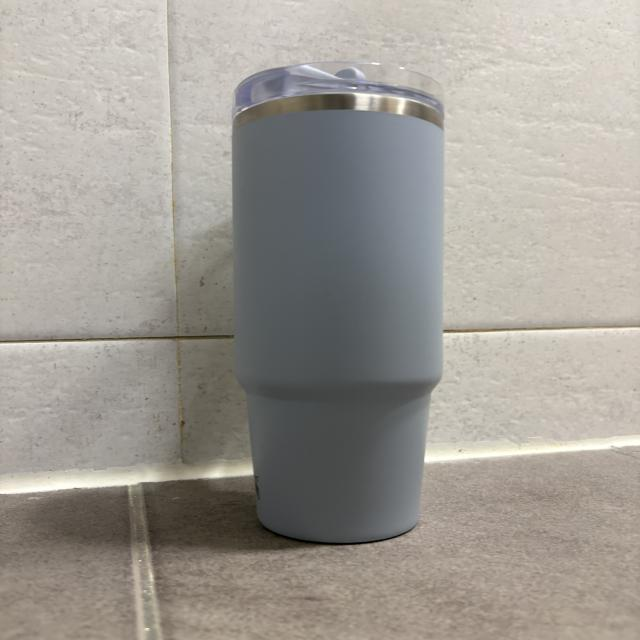waterbottle: (235, 58, 442, 546)
